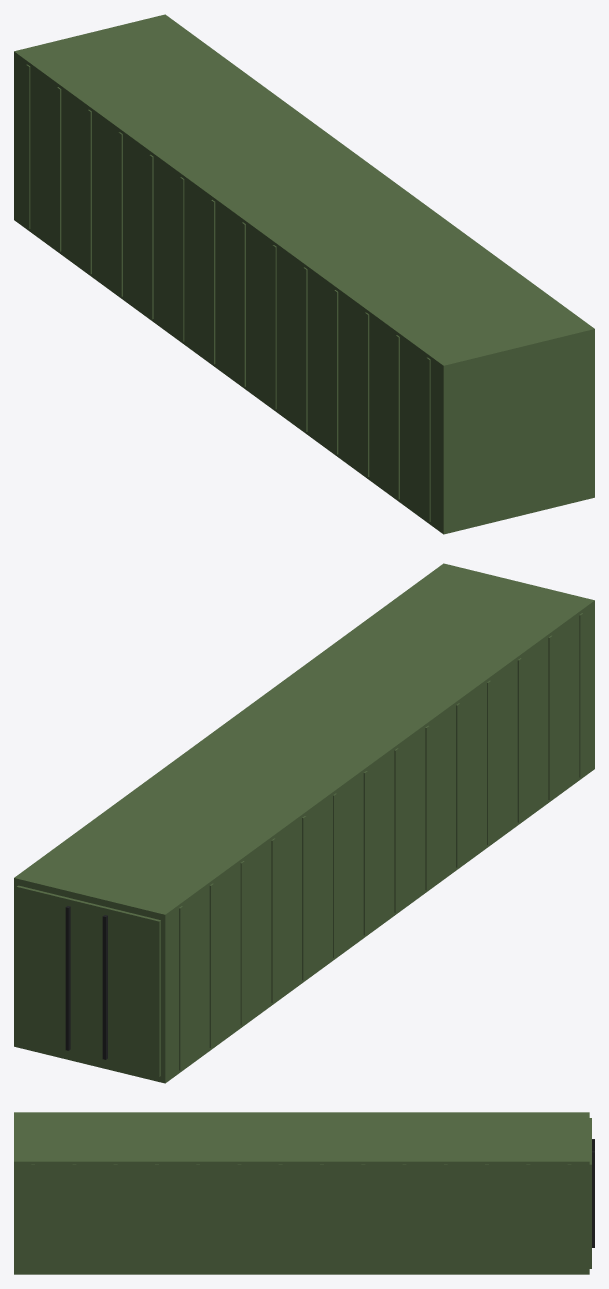
The model's file is Container2.fbx.
3 views of the same model, one above another, from view 1: azimuth 30°, elevation 25°; view 2: azimuth 150°, elevation 25°; view 3: azimuth 270°, elevation 25° (orthographic). The views are drawn at different scales.
Parts seen in each view (by area): view 1: Box, Rib10, Rib13, Rib5, Rib8, Rib0, Rib12, Rib2, Rib3, Rib4, Rib7, Rib9; view 2: Box, Doors, Lock1, Lock-1, Rib0, Rib4, Rib6, Rib10, Rib11, Rib12, Rib2, Rib5 (+3 smaller); view 3: Box, Rib1, Rib12, Rib13, Rib2, Rib5, Rib6, Rib8, Rib9, Doors, Rib0, Rib10 (+5 smaller).
Boxes of the visible parts, left/top/right/bottom form: Box: left=14, top=14, right=594, bottom=534; Rib10: left=118, top=132, right=122, bottom=296; Rib13: left=26, top=64, right=30, bottom=228; Rib5: left=272, top=245, right=276, bottom=409; Rib8: left=180, top=177, right=184, bottom=341; Rib0: left=426, top=357, right=430, bottom=521; Rib12: left=57, top=87, right=61, bottom=251; Rib2: left=365, top=312, right=369, bottom=476; Rib3: left=334, top=290, right=338, bottom=454; Rib4: left=303, top=267, right=307, bottom=431; Rib7: left=211, top=200, right=215, bottom=364; Rib9: left=149, top=154, right=153, bottom=319; Box: left=14, top=563, right=594, bottom=1083; Doors: left=16, top=885, right=160, bottom=1077; Lock1: left=65, top=906, right=70, bottom=1050; Lock-1: left=102, top=915, right=107, bottom=1059; Rib0: left=579, top=613, right=583, bottom=777; Rib4: left=456, top=703, right=460, bottom=867; Rib6: left=394, top=748, right=398, bottom=912; Rib10: left=271, top=838, right=275, bottom=1002; Rib11: left=240, top=861, right=244, bottom=1025; Rib12: left=209, top=883, right=213, bottom=1047; Rib2: left=517, top=658, right=521, bottom=822; Rib5: left=425, top=725, right=429, bottom=890; Box: left=14, top=1112, right=589, bottom=1274; Rib1: left=72, top=1164, right=76, bottom=1272; Rib12: left=526, top=1164, right=530, bottom=1272; Rib13: left=567, top=1164, right=571, bottom=1272; Rib2: left=113, top=1164, right=117, bottom=1272; Rib5: left=237, top=1164, right=241, bottom=1272; Rib6: left=278, top=1164, right=282, bottom=1272; Rib8: left=361, top=1164, right=365, bottom=1272; Rib9: left=402, top=1164, right=406, bottom=1272; Doors: left=589, top=1118, right=591, bottom=1268; Rib0: left=31, top=1164, right=34, bottom=1272; Rib10: left=444, top=1164, right=447, bottom=1272.
Size of the model in its own units: 248 by 1211 by 260.
